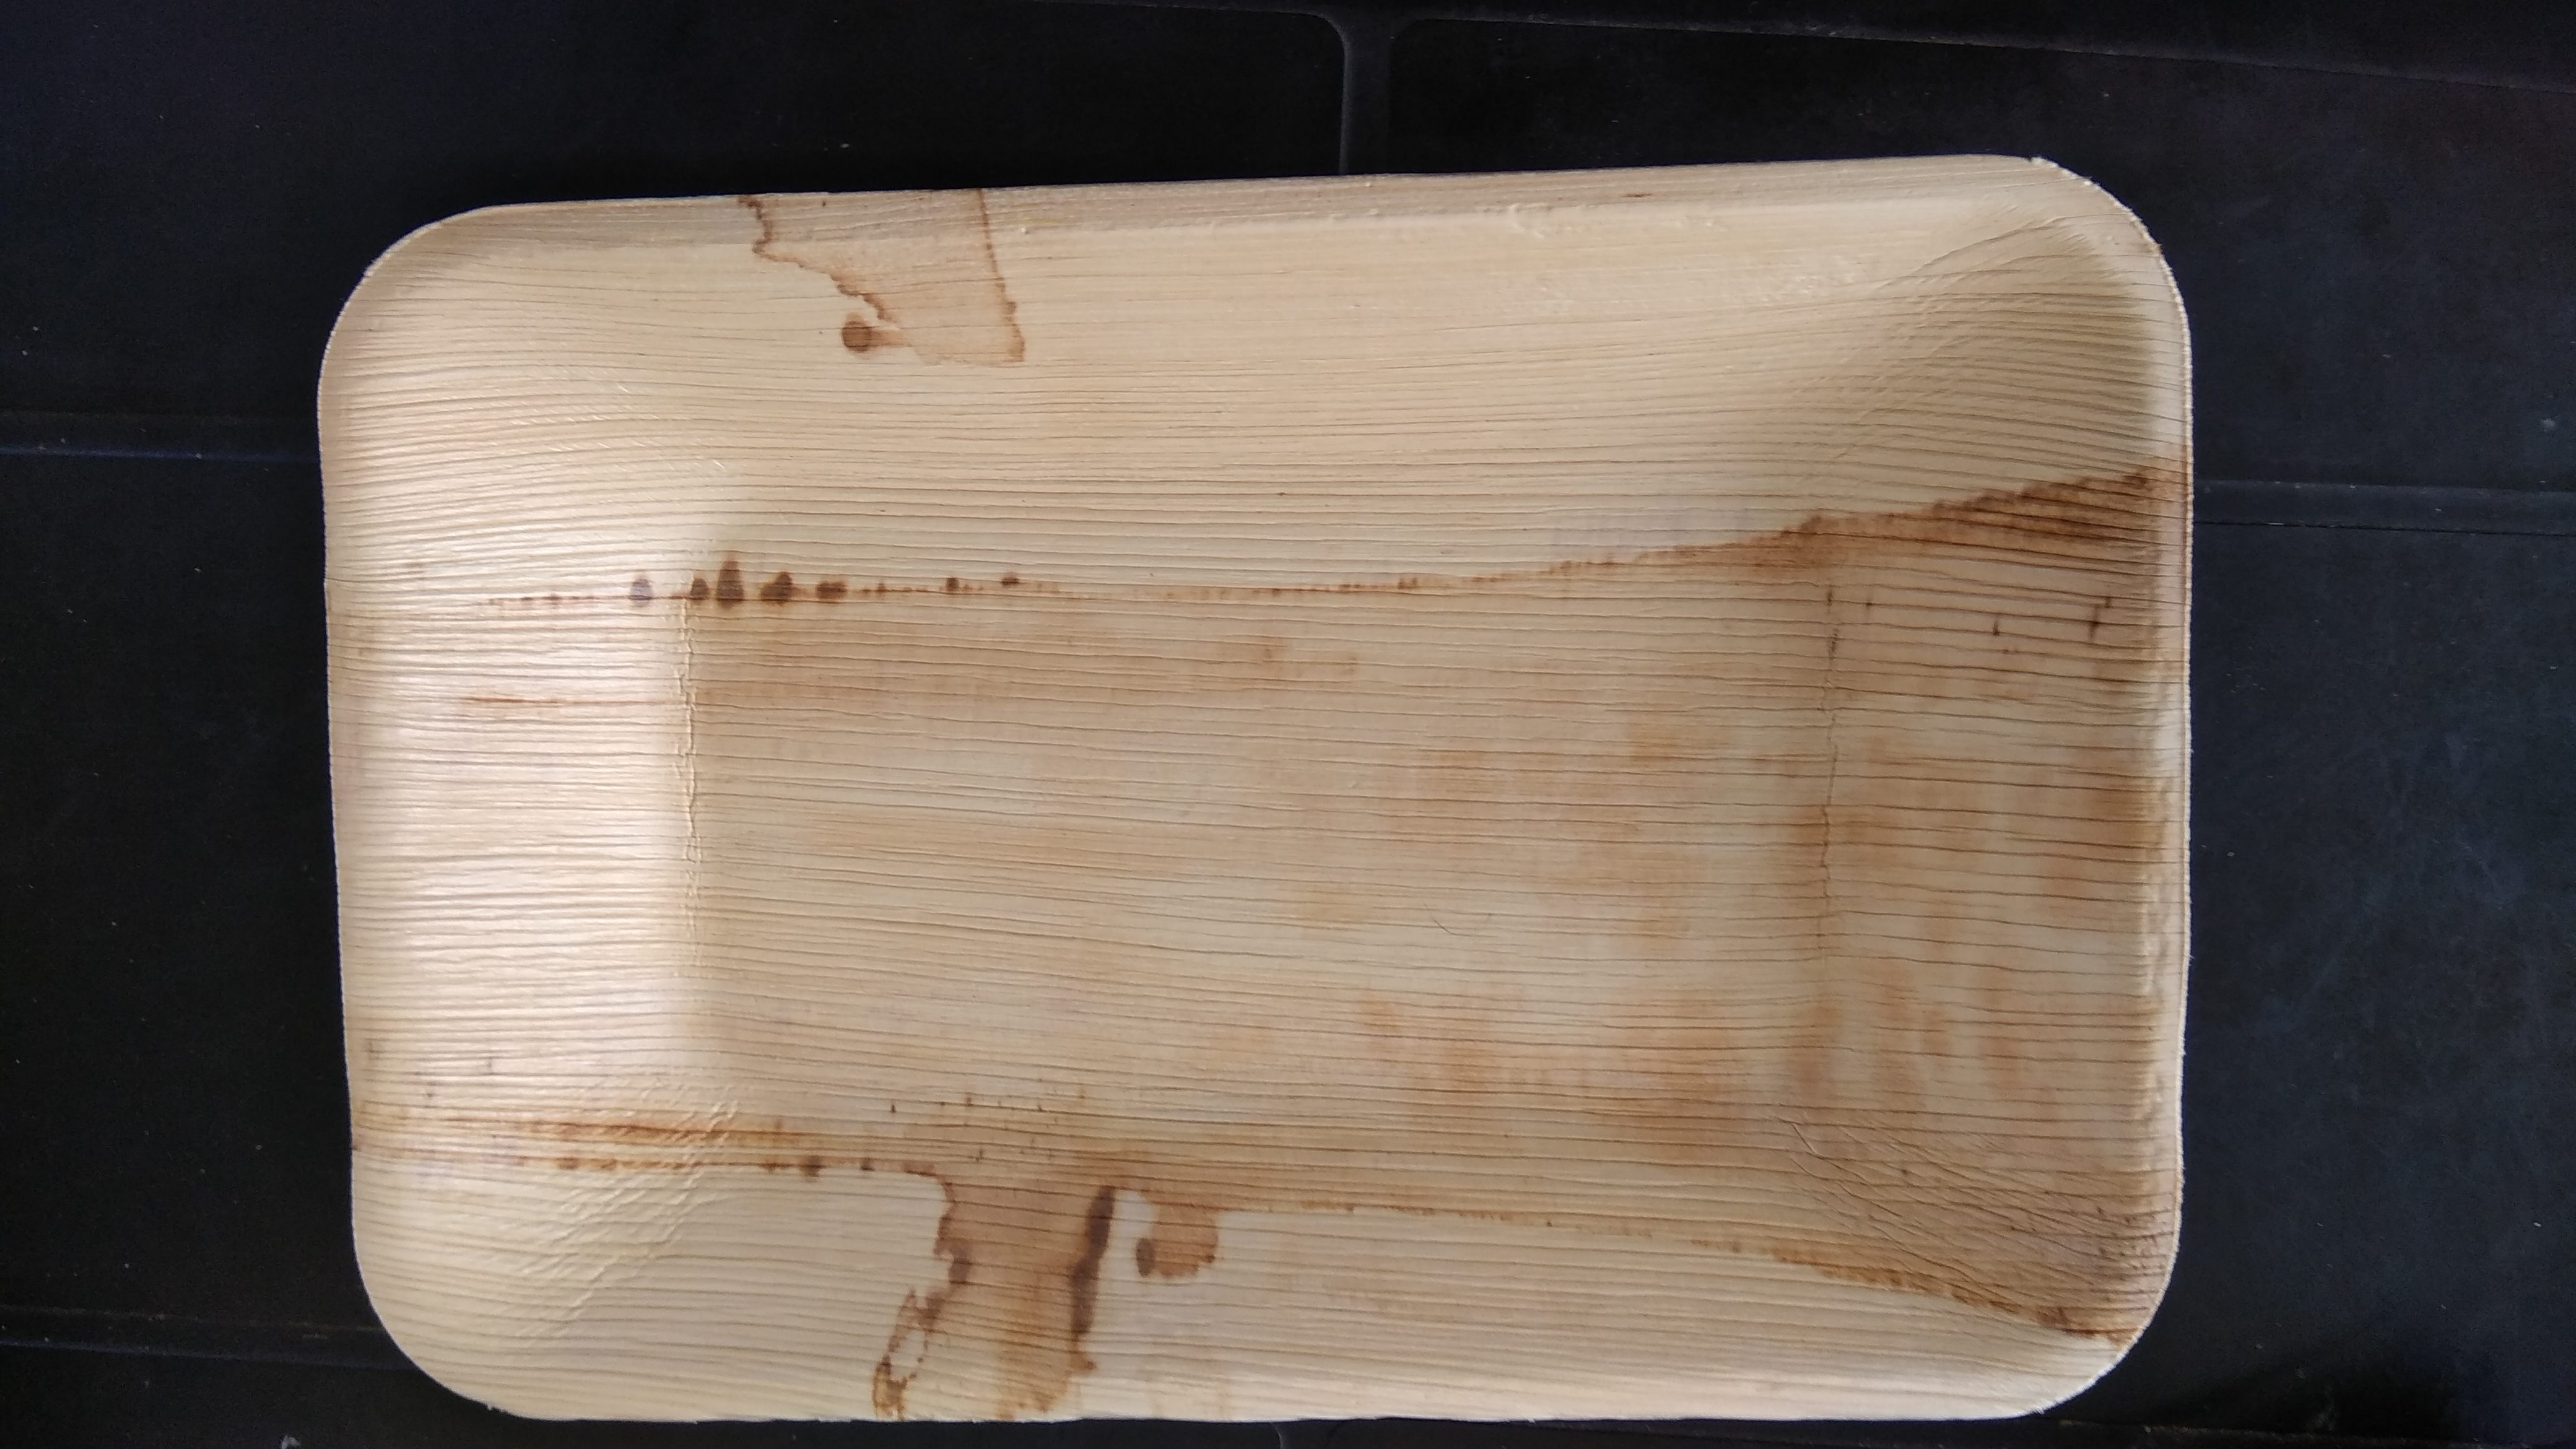areca plate: (306, 191, 2171, 1410)
